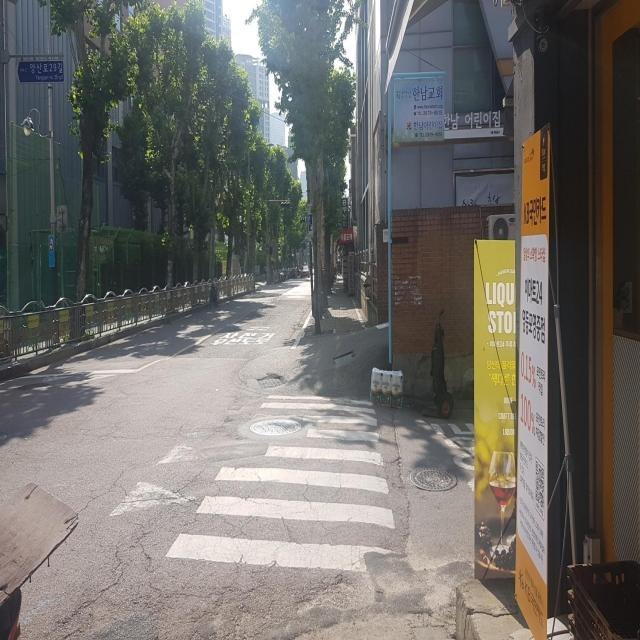횡단보도: (164, 392, 402, 574)
